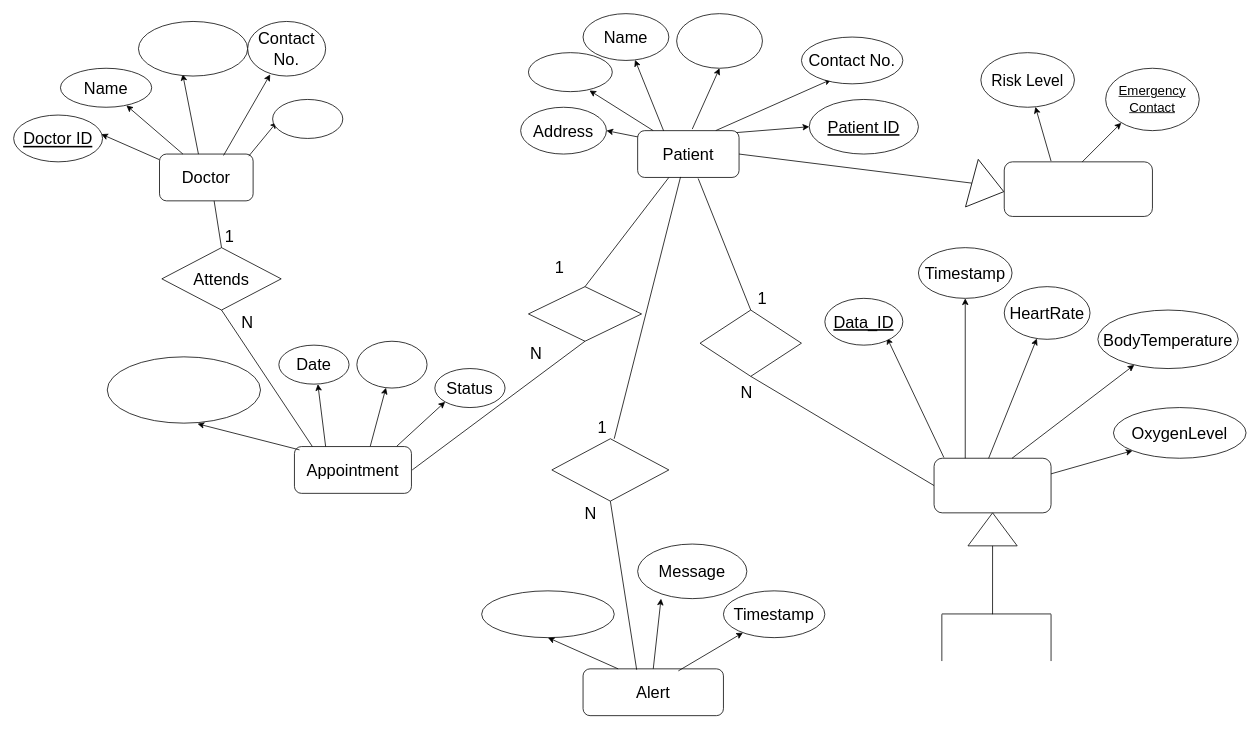
This 1260x729 diagram has some shape labels left out. Here are the shapes that lost their labels. From the top down, the centre of each, then its label:
point 193,48: Specialization
point 719,40: Gender
point 570,72: Age
point 307,118: Email
point 1077,188: High Risk Patient
point 585,313: Books
point 750,342: Has_Data
point 391,364: Time
point 183,389: AppointmentID
point 610,469: Receives
point 992,485: Sensor_Data
point 547,614: AlertID
